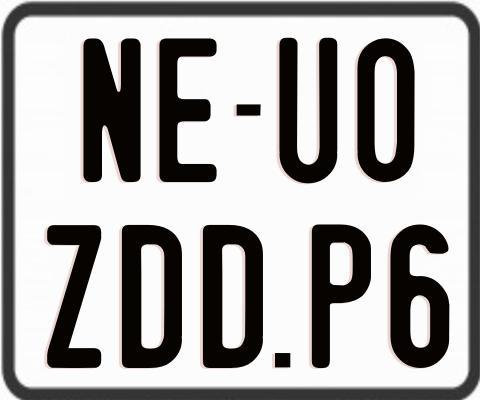0: (355, 37, 416, 181)
6: (389, 223, 453, 370)
D: (200, 222, 266, 368), (120, 222, 184, 370)
E: (159, 37, 221, 185)
N: (82, 35, 141, 183)
P: (312, 223, 372, 367)
U: (278, 38, 339, 187)
Z: (47, 224, 104, 369)
